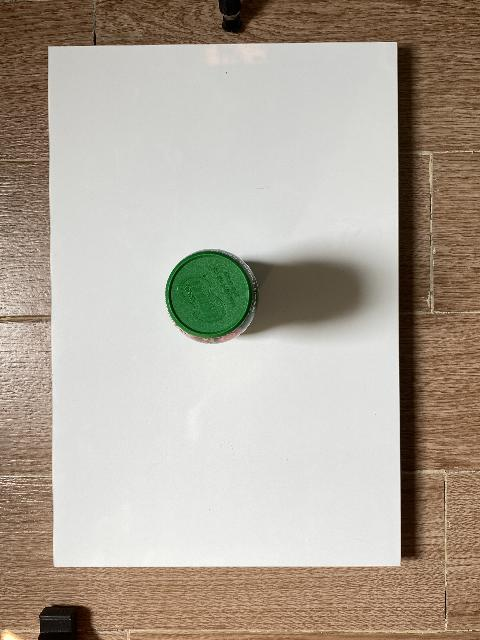milo: (164, 249, 259, 345)
